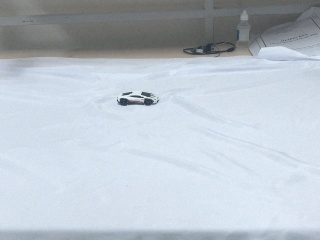bottle: (236, 10, 251, 47)
toy_car: (117, 91, 159, 106)
